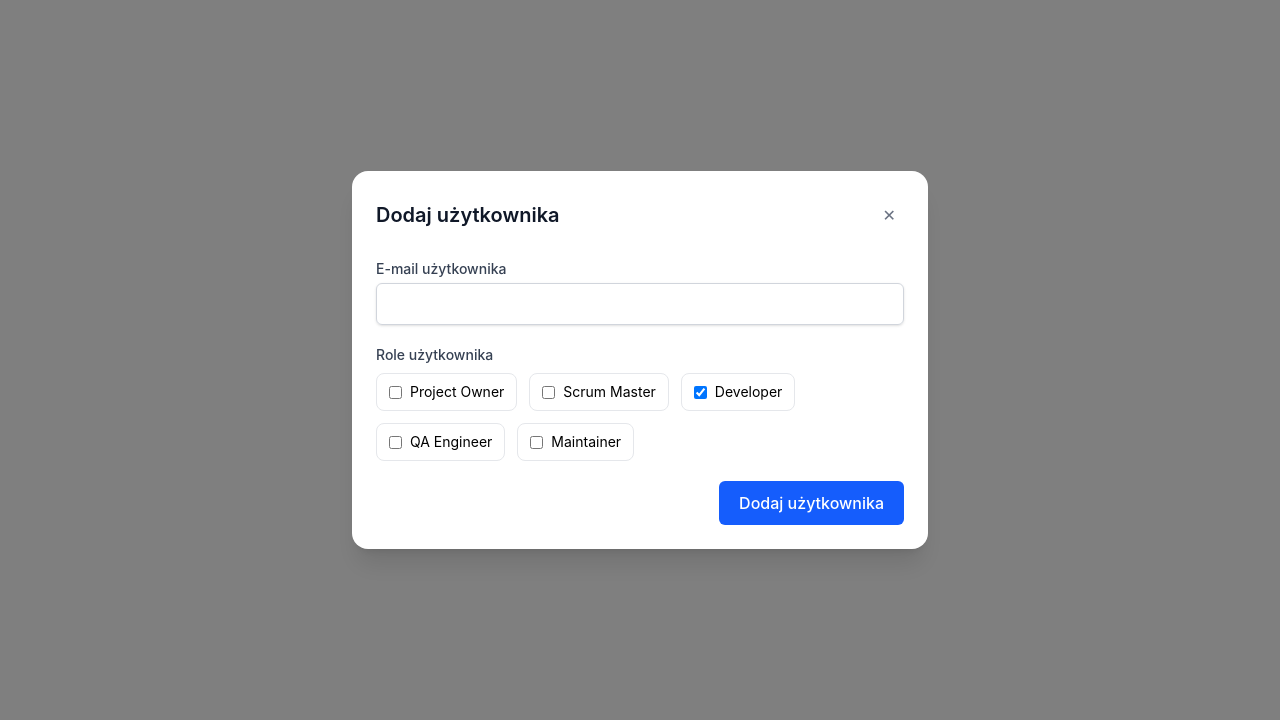
Test case: AddProjectMemberModal › powinien elegancko obsłużyć błąd serwera
Type "brak@example.com" into the field named "email" at (640, 304), box [376,283,904,325]
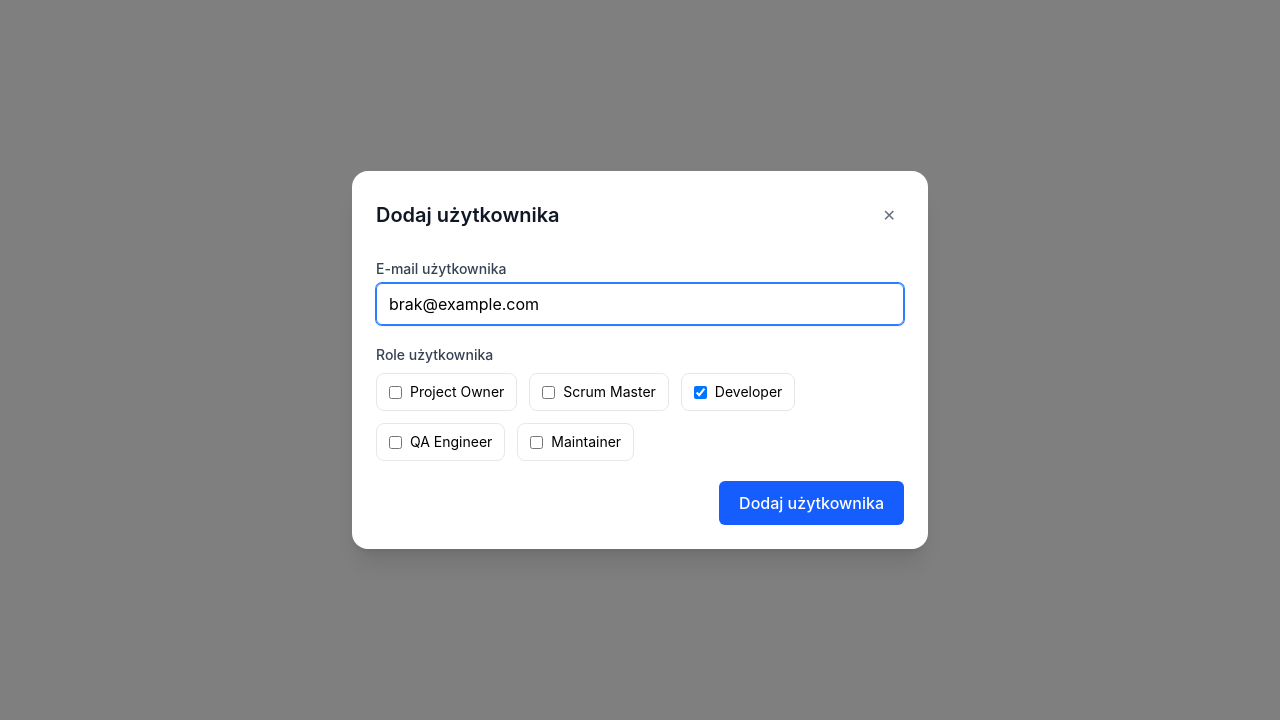
Click the button "Dodaj użytkownika" at (812, 503), box [719,481,904,525]
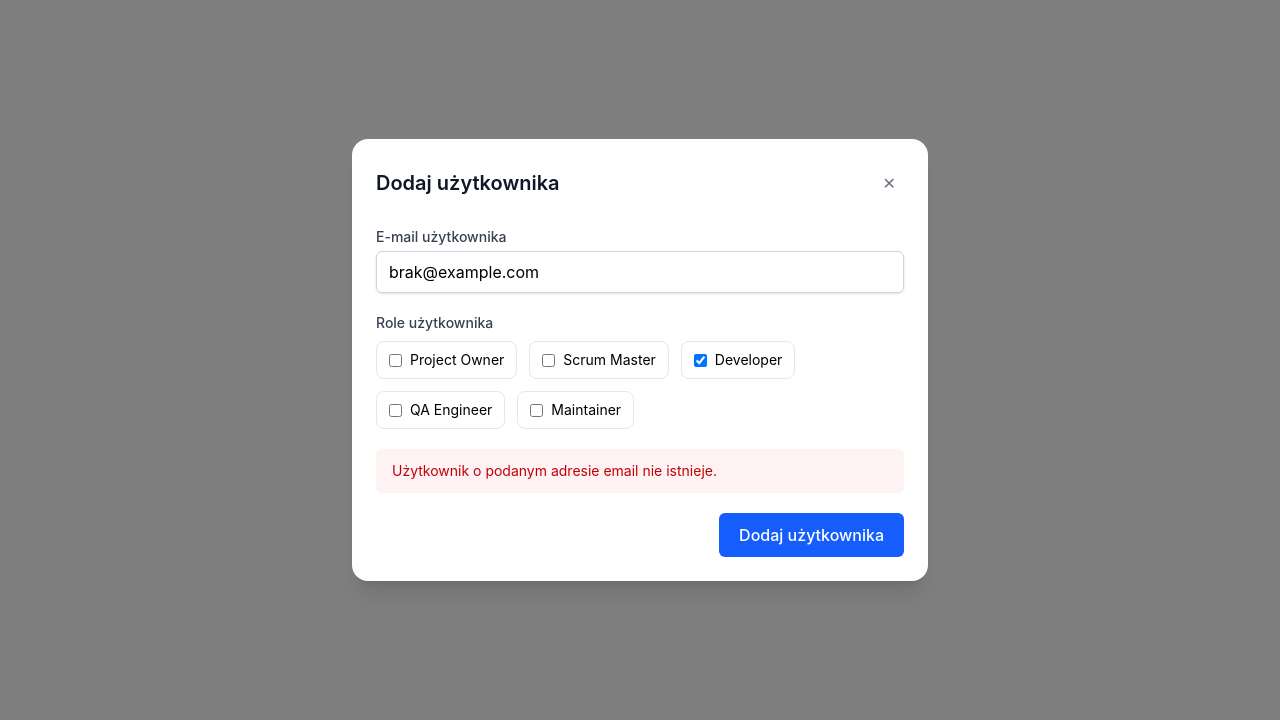
Expected: the text "Użytkownik o podanym adresie email nie istnieje." is shown, [376,449,904,493]
